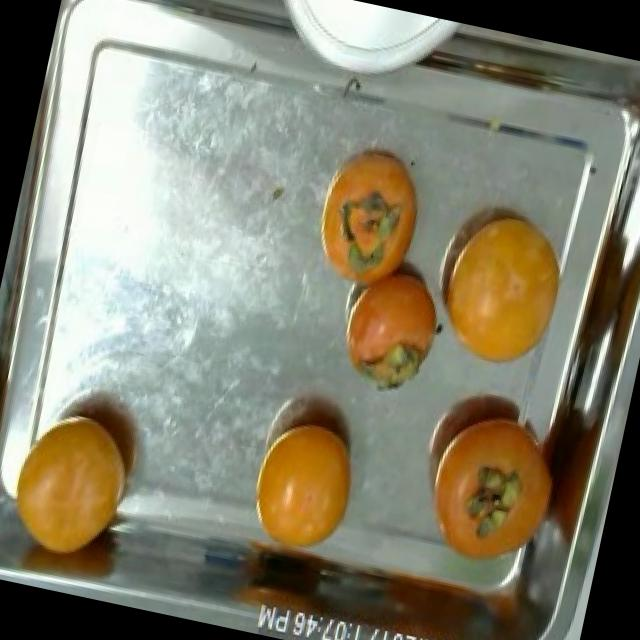Fruit: (391, 369, 583, 595), (418, 189, 582, 388), (0, 390, 158, 582), (231, 402, 377, 572), (326, 246, 462, 409)
